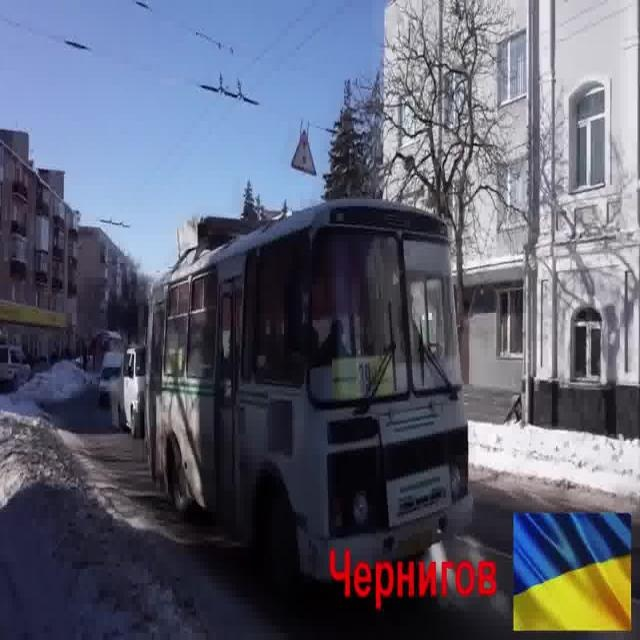Bus: (145, 197, 474, 588)
